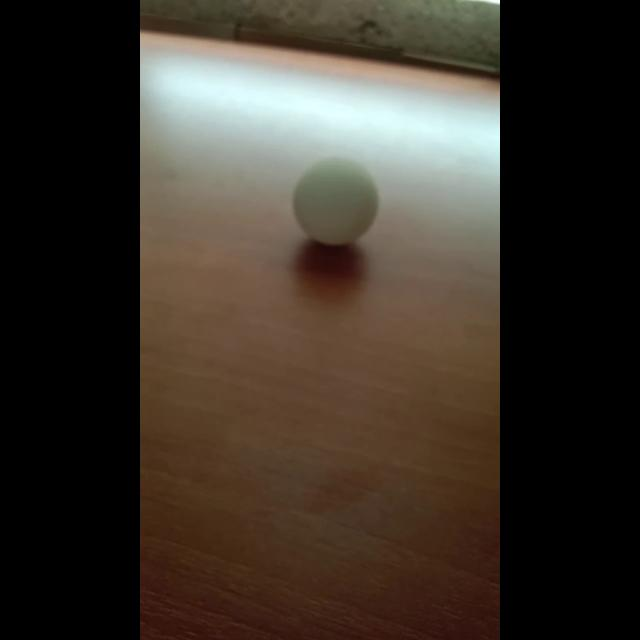white ball: (291, 156, 379, 246)
